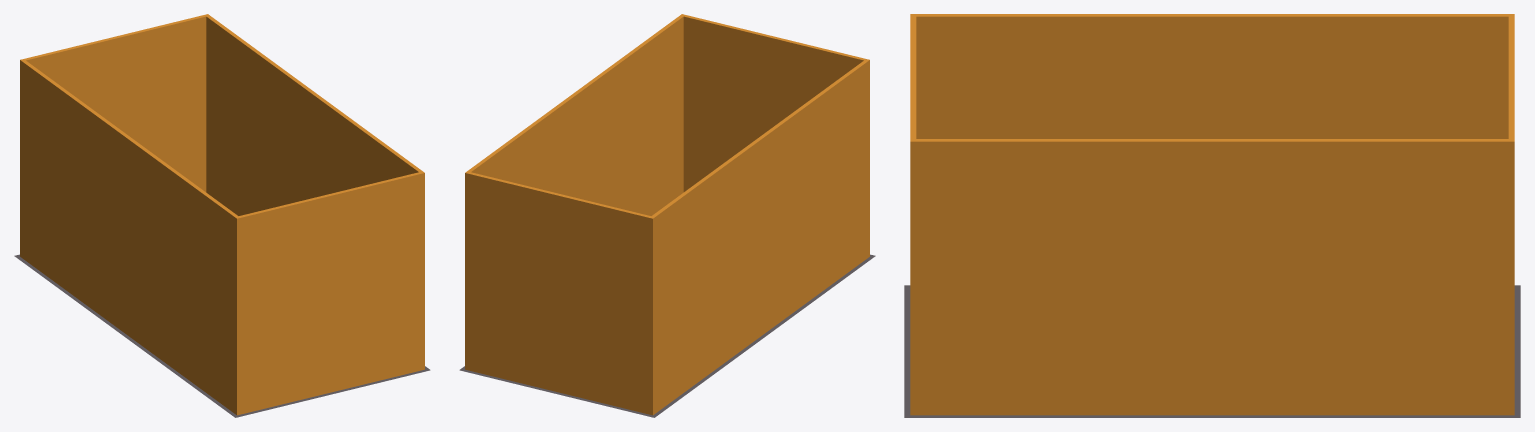
File: wall.fbx
3 views of the same model, side by side, from view 1: azimuth 30°, elevation 25°; view 2: azimuth 150°, elevation 25°; view 3: azimuth 270°, elevation 25° (orthographic). The views are drawn at different scales.
Visible parts, largest first — view 1: Cube, Plane; view 2: Cube, Plane; view 3: Cube, Plane.
Part boxes in pixels (<box>): Cube: <box>20,14,424,415</box>; Plane: <box>14,254,430,417</box>; Cube: <box>465,14,869,415</box>; Plane: <box>459,254,875,417</box>; Cube: <box>910,14,1514,415</box>; Plane: <box>904,285,1520,417</box>.
Size of the model in its own units: 5200 by 5000 by 10200.
